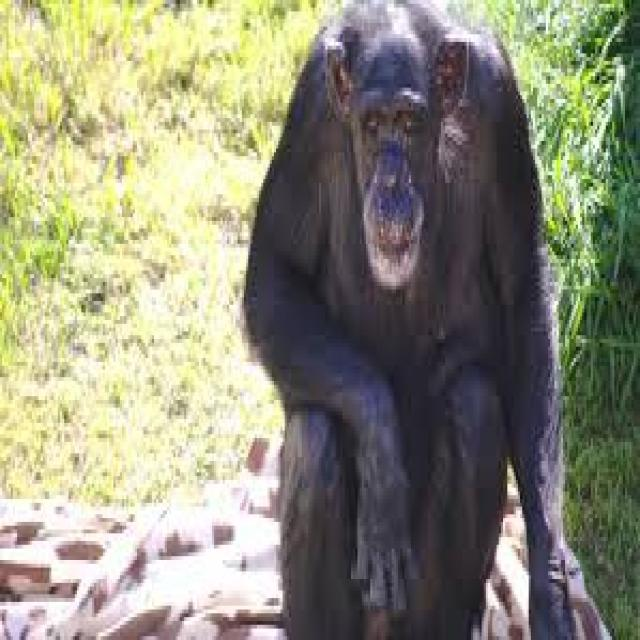Chimpanzee: (240, 0, 580, 640)
